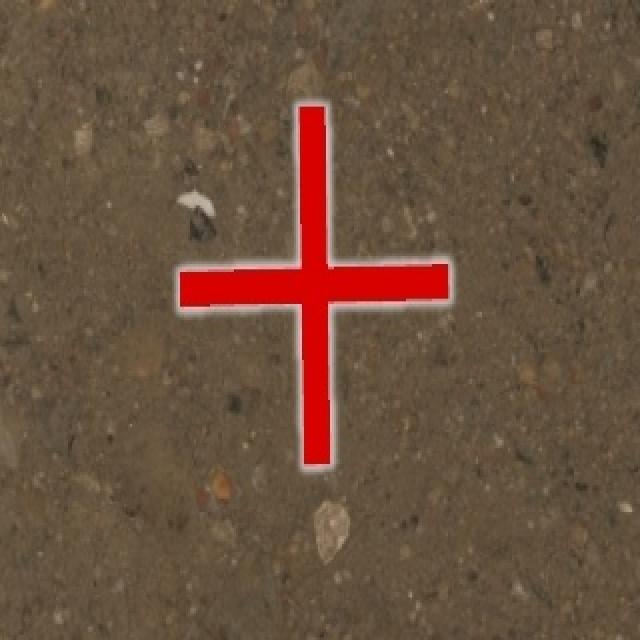x_marker: (179, 106, 449, 466)
